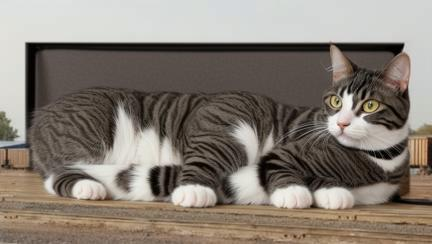cat: (25, 42, 410, 208)
